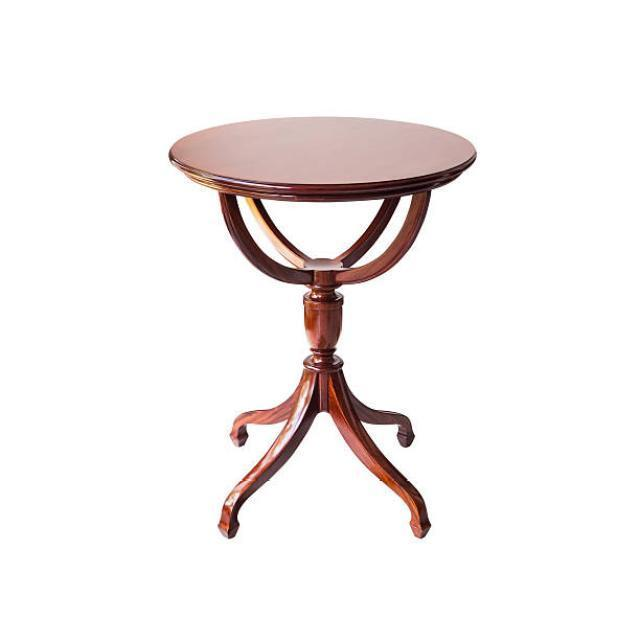table: (167, 114, 477, 541)
